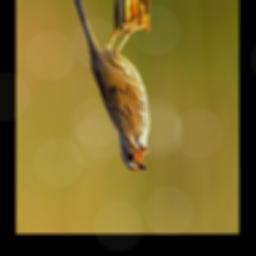Sparrow: (66, 0, 150, 174)
